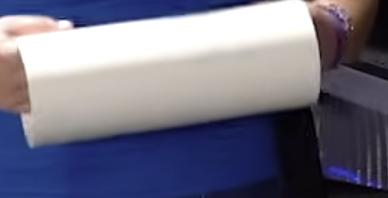coral: (16, 0, 321, 148)
